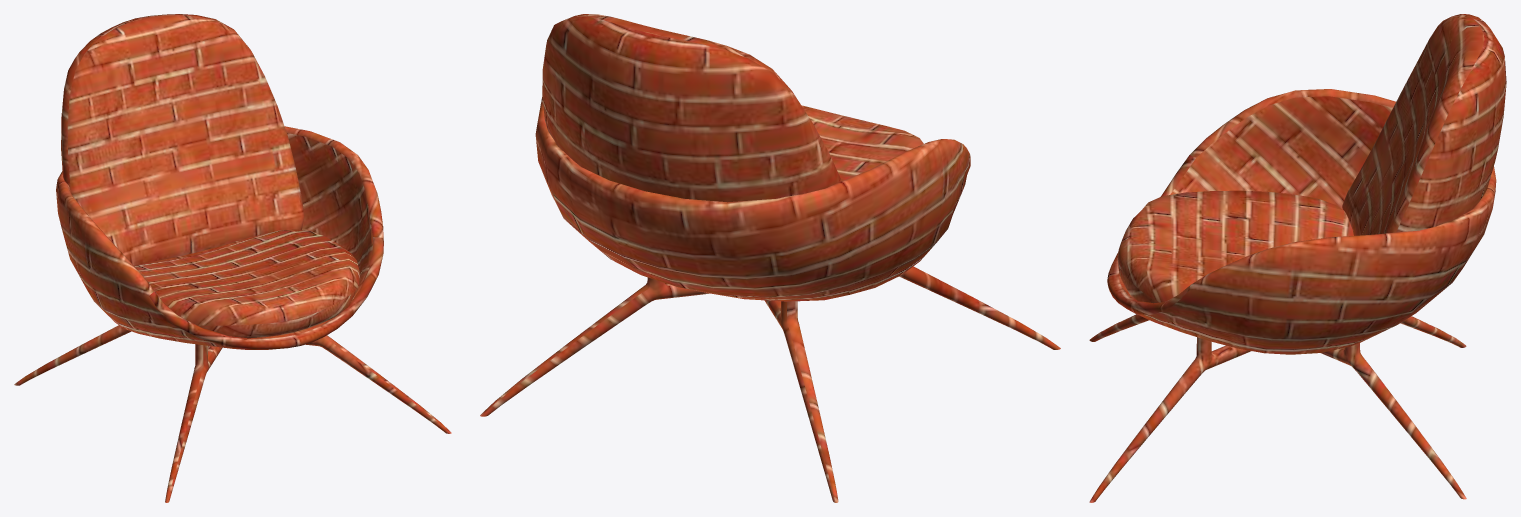
File: Armchair.fbx
3 renders of one model, left to right at view 1: azimuth 30°, elevation 25°; view 2: azimuth 150°, elevation 25°; view 3: azimuth 270°, elevation 25°, orthographic. The views are drawn at different scales.
Parts seen in each view (by area): view 1: Poltrona_moon.003, Poltrona_moon, Poltrona_moon.004, Poltrona_moon.001; view 2: Poltrona_moon, Poltrona_moon.003, Poltrona_moon.001, Poltrona_moon.004; view 3: Poltrona_moon, Poltrona_moon.003, Poltrona_moon.004, Poltrona_moon.001.
Boxes of the visible parts, bbox=[...] form: Poltrona_moon.003: bbox=[61, 14, 304, 265]; Poltrona_moon: bbox=[56, 126, 383, 349]; Poltrona_moon.004: bbox=[134, 229, 360, 338]; Poltrona_moon.001: bbox=[14, 325, 451, 502]; Poltrona_moon: bbox=[535, 97, 970, 301]; Poltrona_moon.003: bbox=[542, 14, 841, 202]; Poltrona_moon.001: bbox=[480, 266, 1060, 502]; Poltrona_moon.004: bbox=[801, 105, 923, 180]; Poltrona_moon: bbox=[1107, 89, 1496, 354]; Poltrona_moon.003: bbox=[1342, 14, 1506, 235]; Poltrona_moon.004: bbox=[1117, 190, 1353, 303]; Poltrona_moon.001: bbox=[1089, 314, 1466, 502].
Bounding box in the file's own units: 97.78 × 107 × 105.
1 material, 1 textured.
